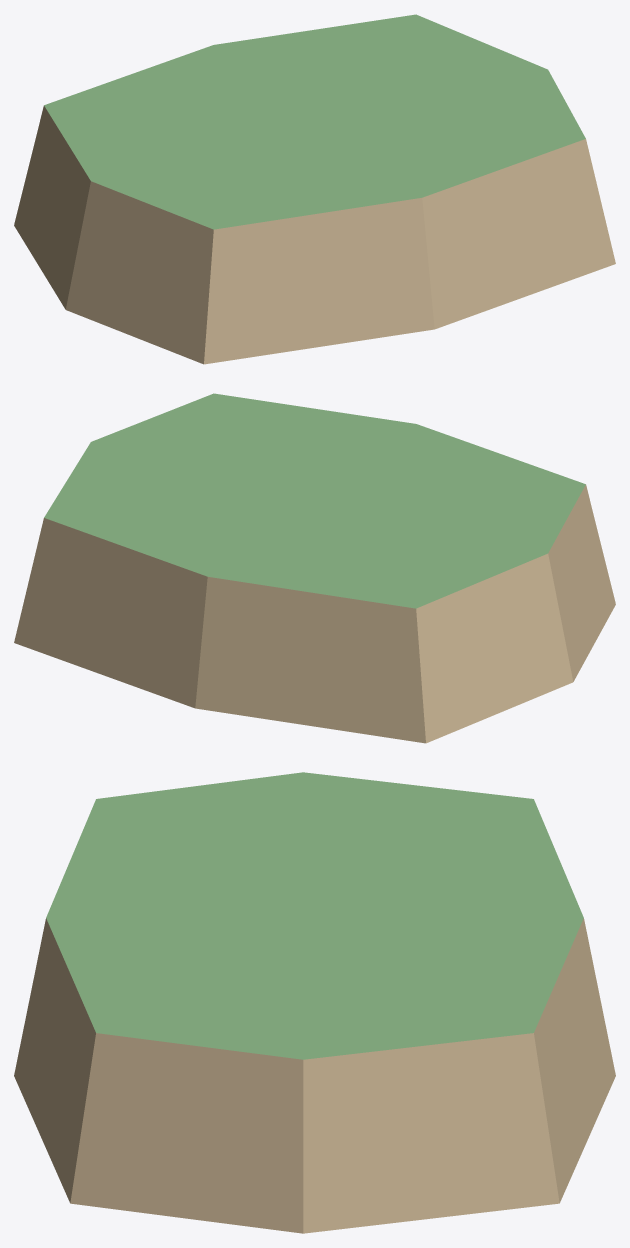
The model's file is LandSquare.fbx.
3 renders of one model, top to bottom at view 1: azimuth 30°, elevation 25°; view 2: azimuth 150°, elevation 25°; view 3: azimuth 270°, elevation 25°, orthographic. The views are drawn at different scales.
Parts seen in each view (by area): view 1: LandSquare; view 2: LandSquare; view 3: LandSquare.
Boxes of the visible parts, bbox=[...] form: LandSquare: bbox=[14, 14, 615, 364]; LandSquare: bbox=[14, 393, 615, 743]; LandSquare: bbox=[14, 772, 615, 1233].
Size of the model in its own units: 1731 by 400 by 1379.
